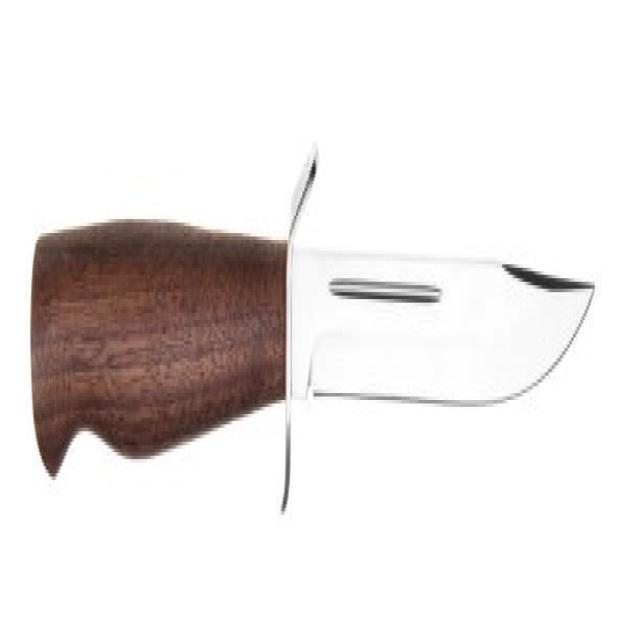knife: (33, 143, 602, 536)
